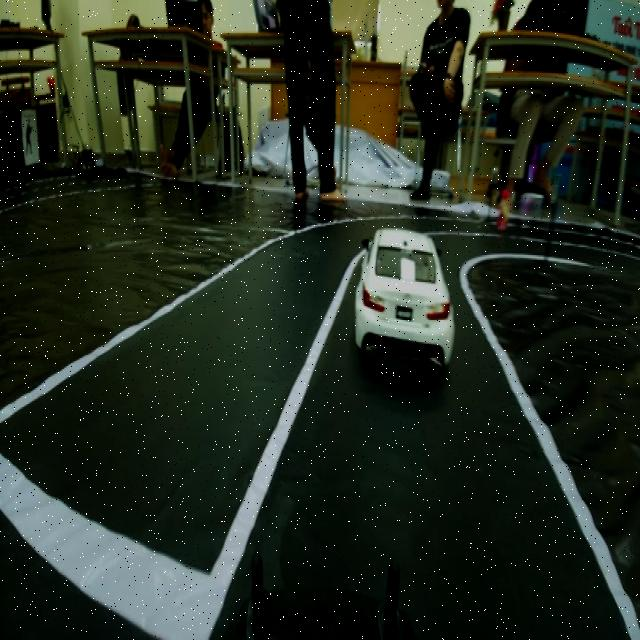car: (358, 216, 461, 384)
